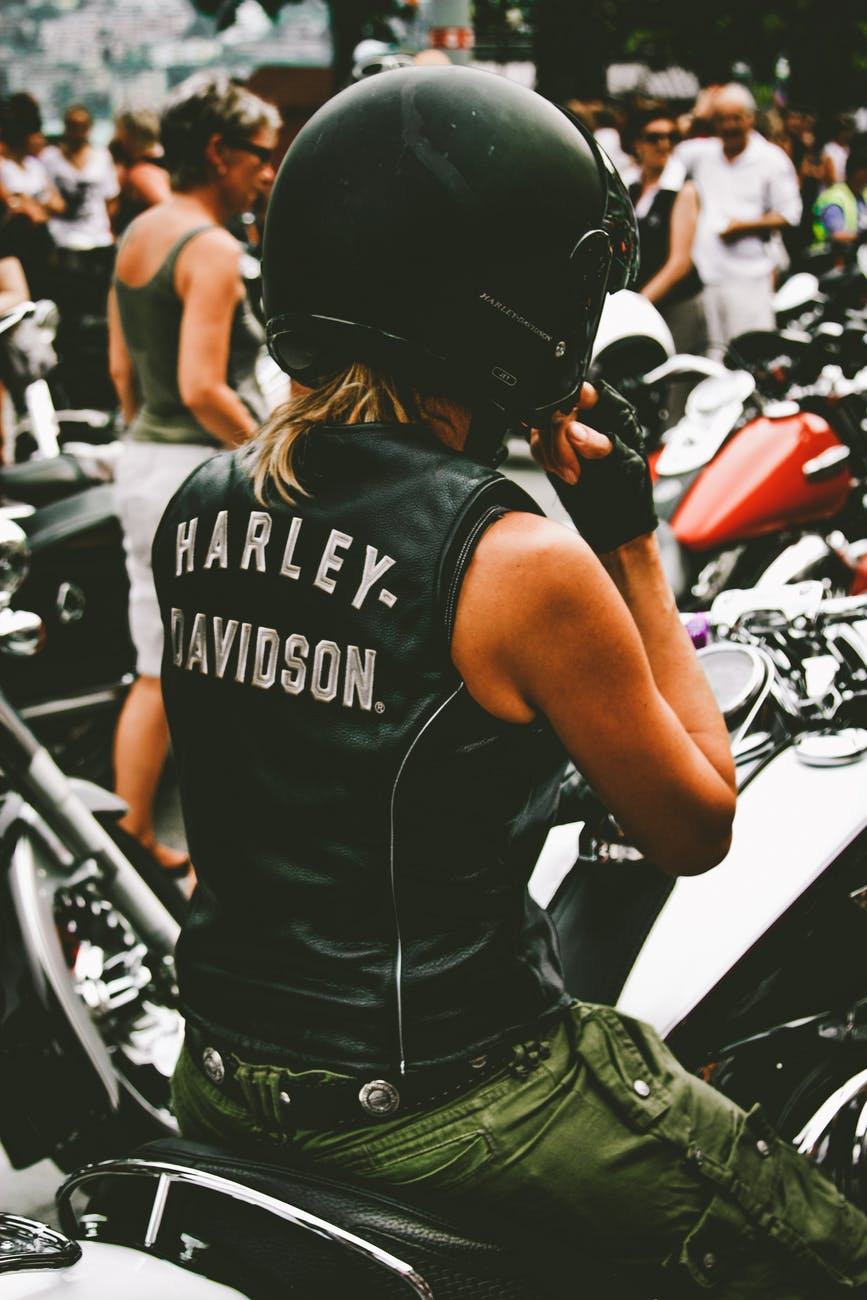helmet: (238, 55, 640, 411)
